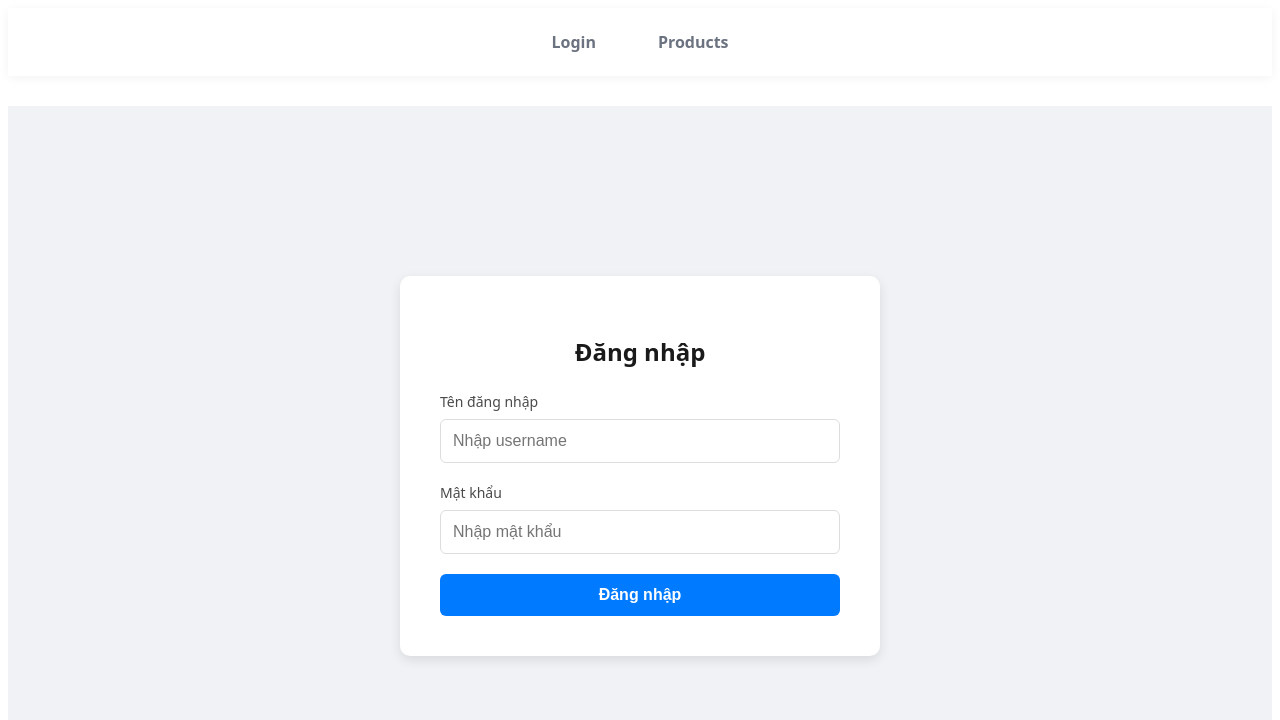
it: Login E2E Tests (5.1.2) › TC4: Hiển thị lỗi validation khi Username quá ngắn (Boundary Test)
The width and height of the screenshot is (1280, 720).
Type "ab" into the field with test id "username-input" at (640, 442), box [440, 420, 840, 464]
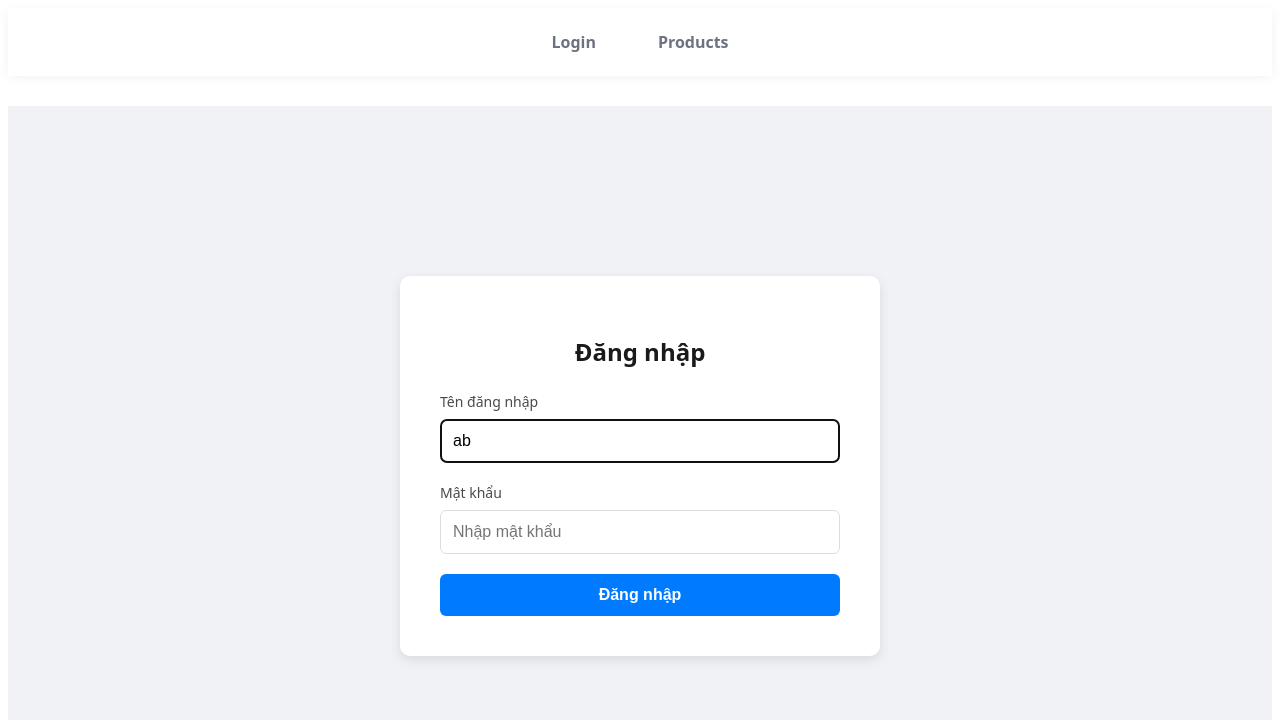
Type "Test123" into the password field with test id "password-input" at (640, 533), box [440, 511, 840, 555]
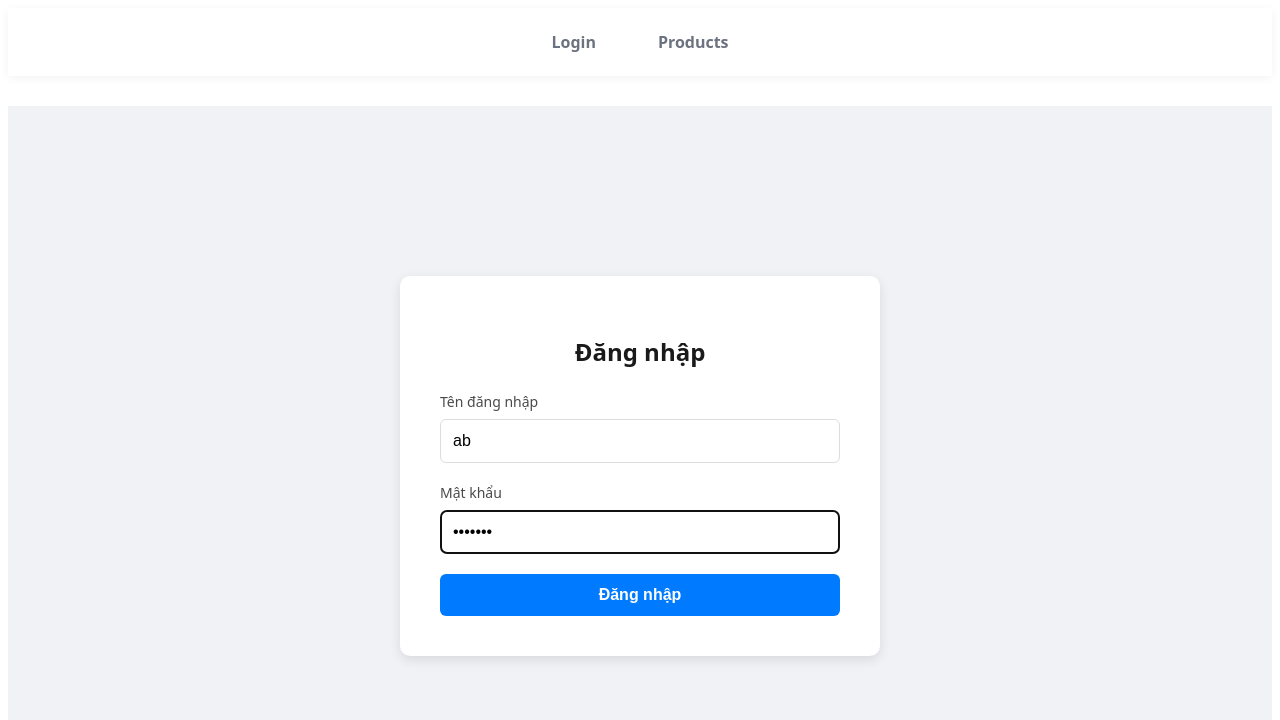
Click the button with test id "login-button" at (640, 596), box [440, 575, 840, 617]
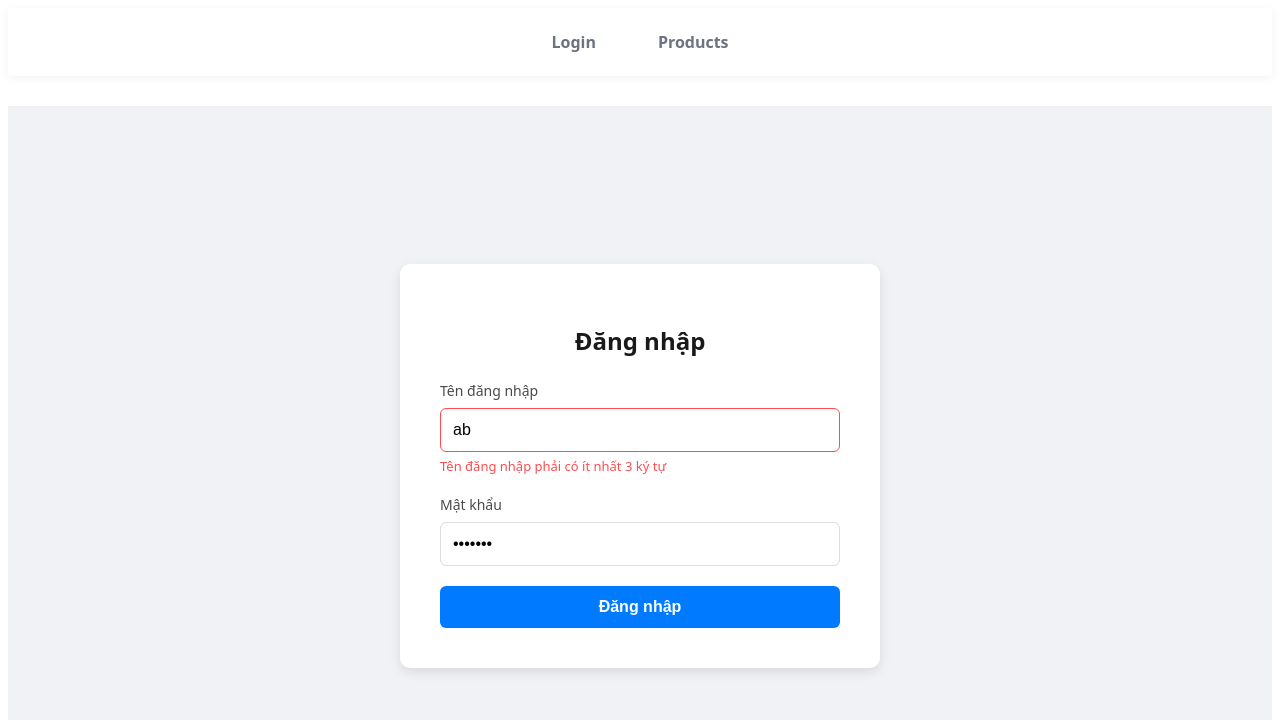
Result: the text with test id "username-error" shows "phải có ít nhất 3 ký tự" at [440, 457, 666, 475]
